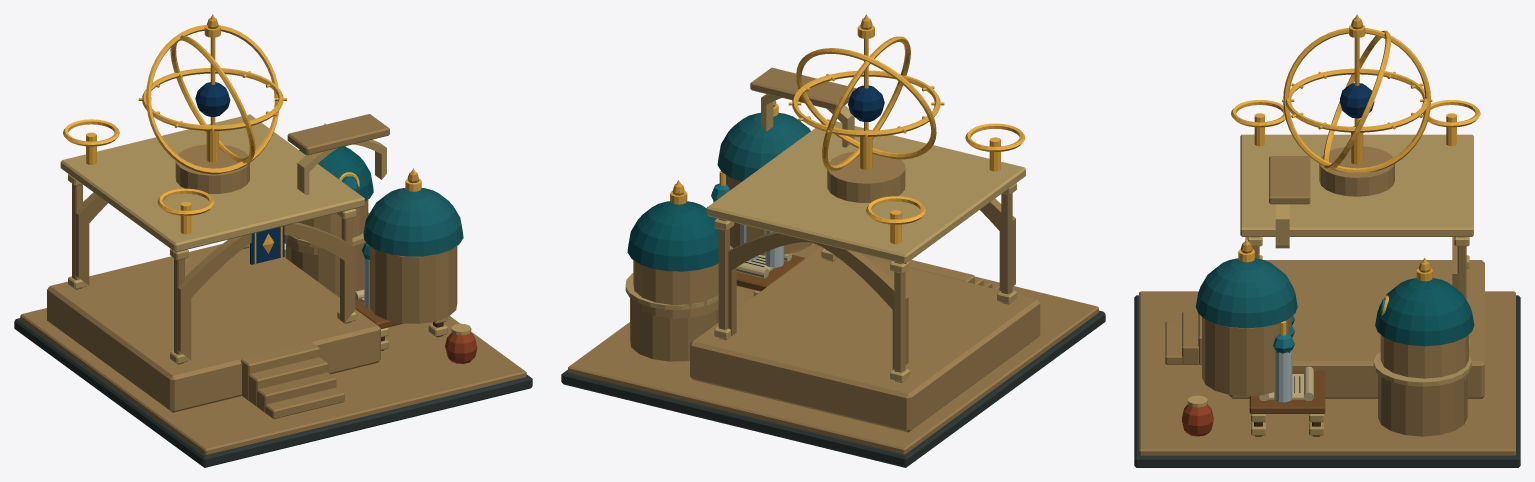
3 renders of one model, left to right at view 1: azimuth 30°, elevation 25°; view 2: azimuth 150°, elevation 25°; view 3: azimuth 270°, elevation 25°, orthographic. The views are drawn at different scales.
Visible parts, largest first — view 1: laboratory_level7_structure, laboratory_level7_metal; view 2: laboratory_level7_structure, laboratory_level7_metal; view 3: laboratory_level7_structure, laboratory_level7_metal.
Boxes of the visible parts, <box> form: laboratory_level7_structure: <box>14,18,532,467</box>; laboratory_level7_metal: <box>63,14,421,263</box>; laboratory_level7_structure: <box>561,18,1105,467</box>; laboratory_level7_metal: <box>670,14,1025,244</box>; laboratory_level7_structure: <box>1134,18,1520,467</box>; laboratory_level7_metal: <box>1231,14,1480,335</box>.
Size of the model in its own units: 5.6 by 5.61 by 5.6.
